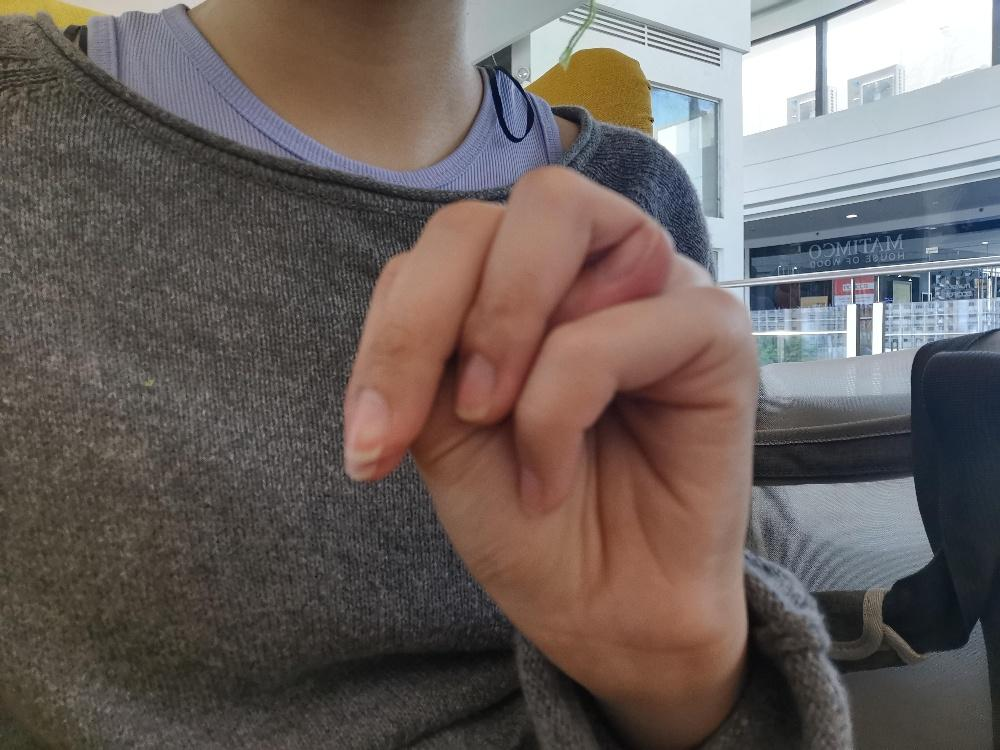m: (338, 159, 761, 656)
